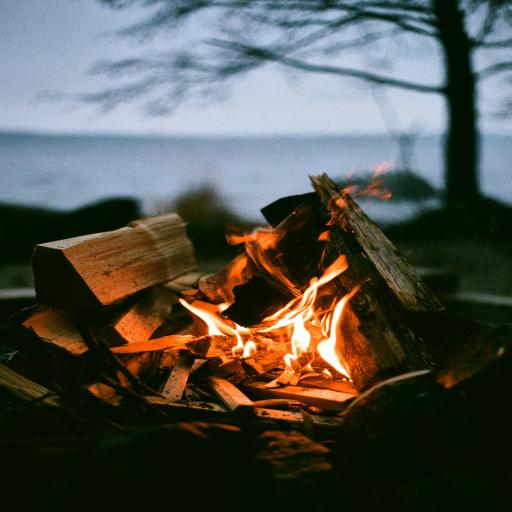campfire: (104, 180, 467, 432)
